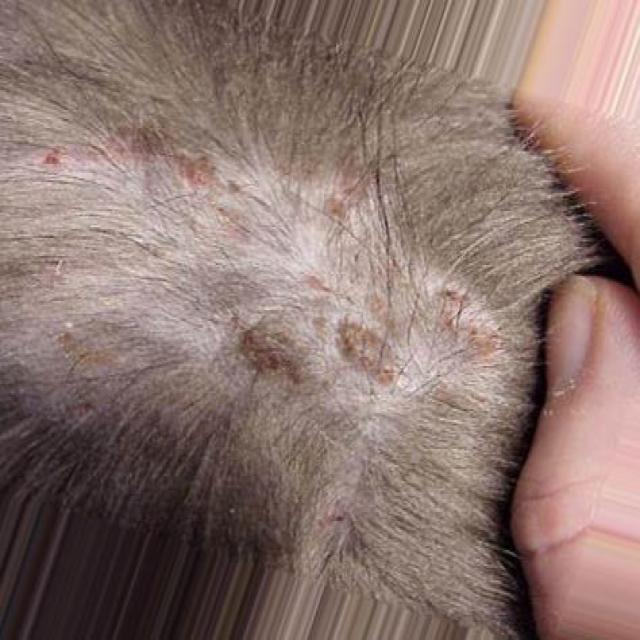di ung bo chet: (34, 37, 516, 538)
